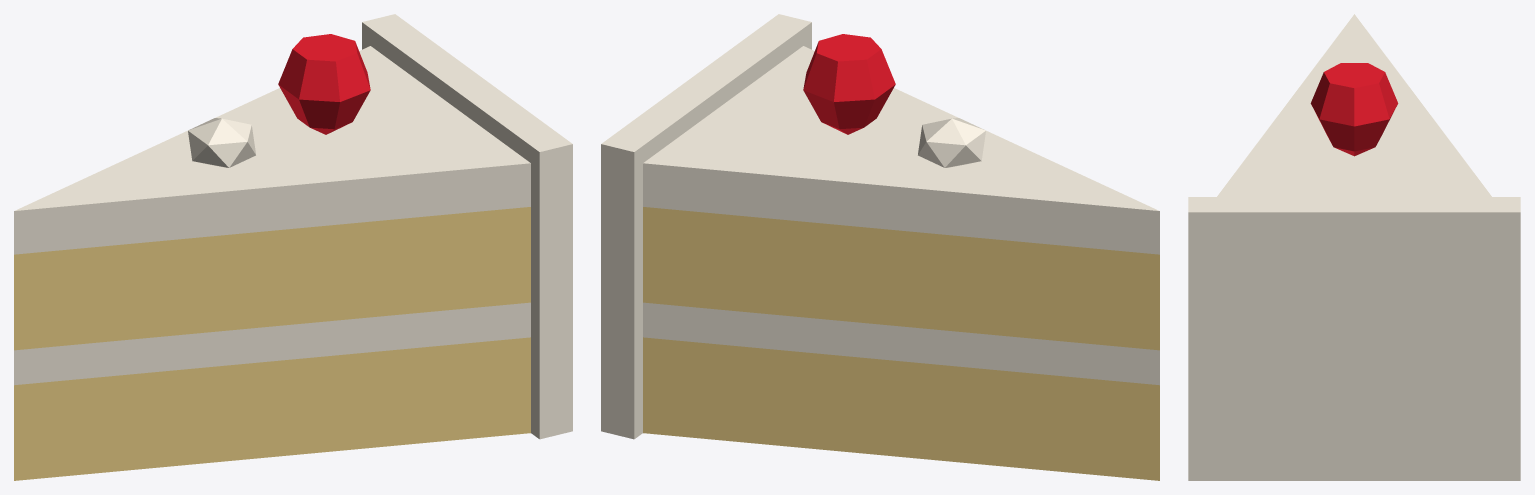
File: cake_slice.glb
3 views of the same model, side by side, from view 1: azimuth 30°, elevation 25°; view 2: azimuth 150°, elevation 25°; view 3: azimuth 270°, elevation 25° (orthographic). The views are drawn at different scales.
Visible parts, largest first — view 1: cake_slice; view 2: cake_slice; view 3: cake_slice.
Part boxes in pixels (x1,y1,x2,y2): cake_slice: (14, 14, 572, 480); cake_slice: (601, 14, 1159, 480); cake_slice: (1188, 14, 1520, 480).
Bounding box in the file's own units: 0.113 × 0.082 × 0.074.
